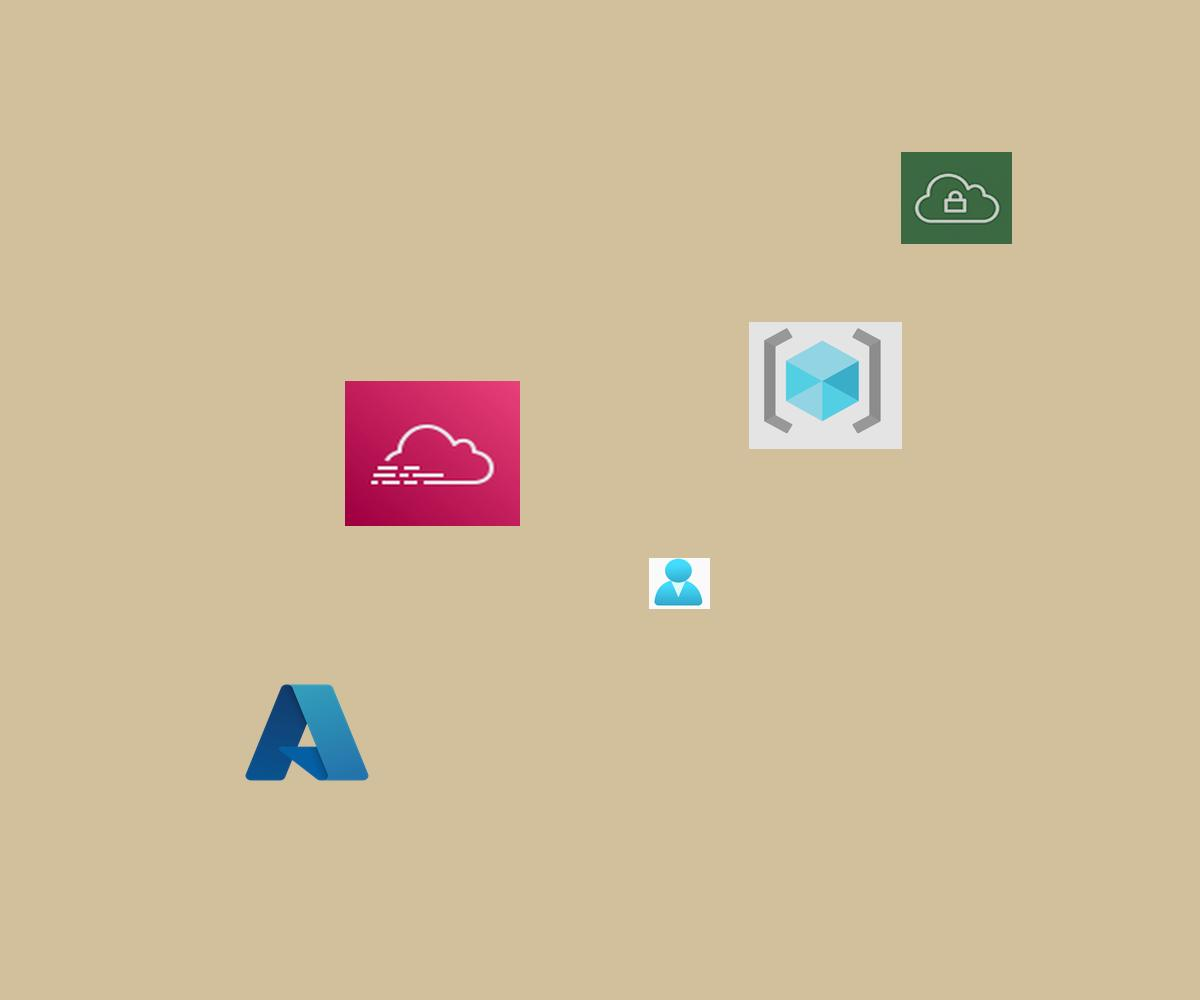AWS-CloudTrail: (345, 381, 520, 526)
AWS-Private_vpc: (901, 152, 1012, 244)
Azure_resource_group: (749, 322, 902, 449)
Azure_services: (240, 677, 374, 788)
Azure_users: (649, 558, 710, 609)
